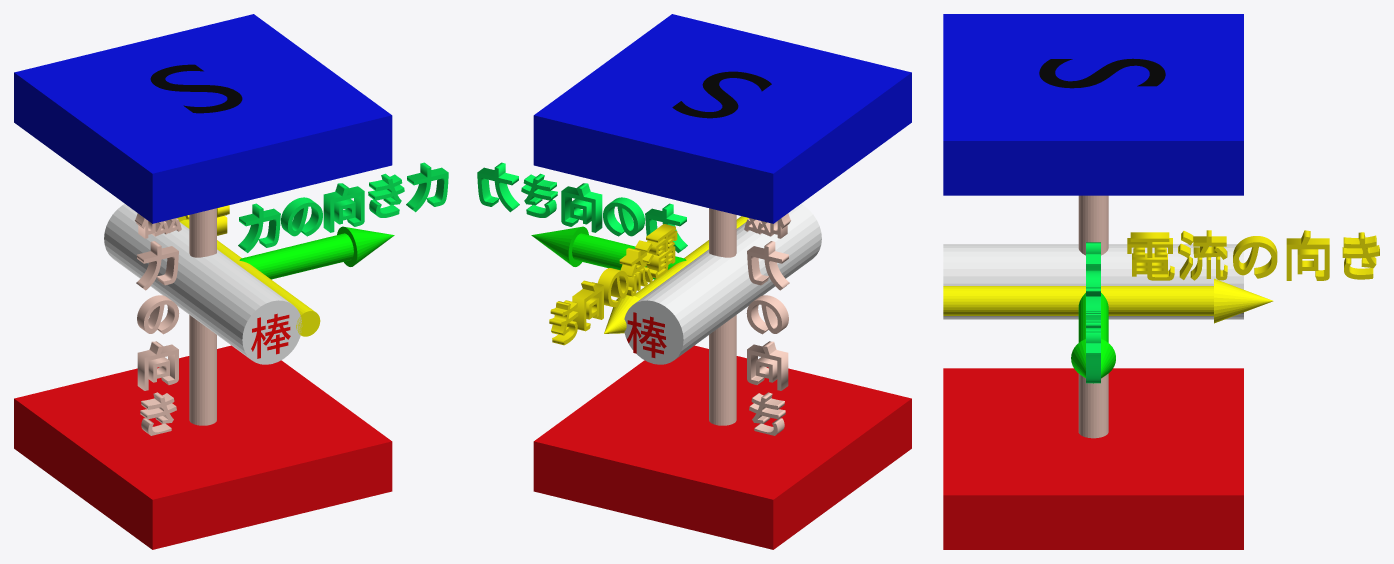
The model's file is Fleming's_left-hand_rule.glb.
The picture shows the model from 3 angles, left to right: view 1: azimuth 30°, elevation 25°; view 2: azimuth 150°, elevation 25°; view 3: azimuth 270°, elevation 25°; orthographic projection. The views are drawn at different scales.
Parts seen in each view (by area): view 1: S極磁石, N極磁石, 導体棒, 力の向き, 磁力の向き, 磁力, 力, S極, 電流, 力_矢印, 棒; view 2: S極磁石, N極磁石, 導体棒, 力の向き, 磁力の向き, 電流の向き, 磁力, 力, S極, 力_矢印, 棒.001, 電流 (+1 smaller); view 3: S極磁石, N極磁石, 導体棒, 電流の向き, 電流, 磁力, 力の向き, S極, 電流_矢印, 力_矢印, 力.
Boxes of the visible parts, box(x1,y1,x2,y2) form: S極磁石: box(14, 14, 392, 223); N極磁石: box(14, 345, 392, 549); 導体棒: box(104, 204, 302, 364); 力の向き: box(238, 162, 448, 252); 磁力の向き: box(135, 213, 181, 435); 磁力: box(189, 208, 216, 425); 力: box(239, 233, 353, 279); S極: box(150, 64, 242, 113); 電流: box(180, 220, 320, 336); 力_矢印: box(337, 226, 394, 266); 棒: box(251, 313, 290, 358); S極磁石: box(533, 14, 911, 223); N極磁石: box(533, 345, 911, 549); 導体棒: box(624, 204, 821, 364); 力の向き: box(477, 162, 687, 252); 磁力の向き: box(744, 213, 790, 435); 電流の向き: box(549, 224, 677, 345); 磁力: box(709, 208, 736, 425); 力: box(572, 233, 686, 279); S極: box(672, 71, 771, 118); 力_矢印: box(531, 226, 588, 266); 棒.001: box(627, 312, 666, 357); 電流: box(634, 216, 748, 299); S極磁石: box(943, 14, 1243, 195); N極磁石: box(943, 368, 1243, 549); 導体棒: box(943, 244, 1243, 319); 電流の向き: box(1127, 230, 1379, 280); 電流: box(943, 286, 1213, 315); 磁力: box(1078, 195, 1108, 438); 力の向き: box(1086, 242, 1100, 383); S極: box(1039, 58, 1165, 88); 電流_矢印: box(1214, 278, 1273, 323); 力_矢印: box(1071, 339, 1115, 383); 力: box(1078, 293, 1108, 342).
Bounding box in the file's own units: 3.02 × 3.03 × 2.93.
